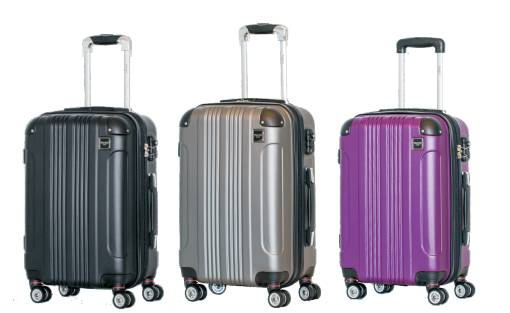suitcase: (175, 23, 323, 312), (21, 31, 166, 308), (336, 36, 481, 309)
